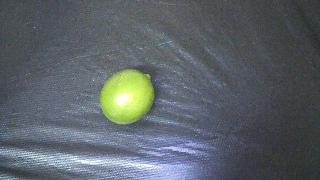LOCAL: (100, 70, 154, 124)
